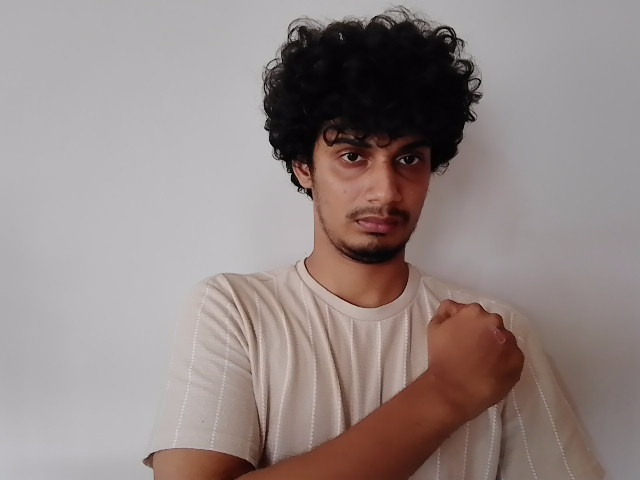sorry: (372, 261, 574, 425)
